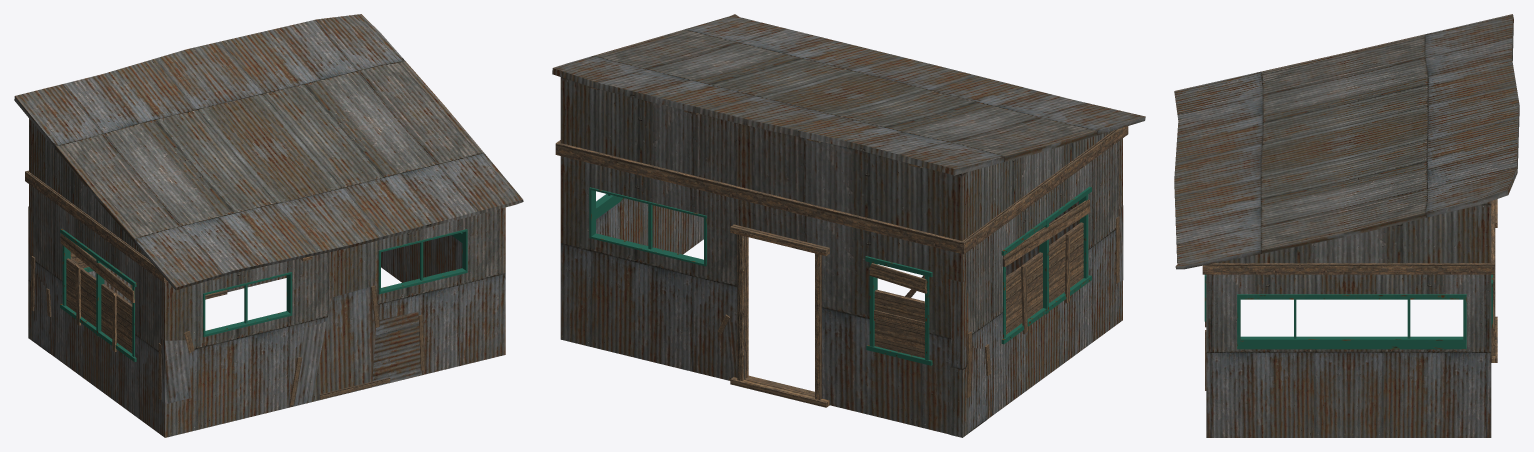
File: BuildingSmall02_2048.glb
The picture shows the model from 3 angles, left to right: view 1: azimuth 30°, elevation 25°; view 2: azimuth 150°, elevation 25°; view 3: azimuth 270°, elevation 25°; orthographic projection. The views are drawn at different scales.
Visible parts, largest first — view 1: xiutz_building_small_02; view 2: xiutz_building_small_02; view 3: xiutz_building_small_02.
Boxes of the visible parts, box(x1,y1,x2,y2) form: xiutz_building_small_02: box(14, 14, 523, 437); xiutz_building_small_02: box(552, 14, 1145, 437); xiutz_building_small_02: box(1174, 14, 1519, 437).
Bounding box in the file's own units: 8.6 × 5.56 × 6.98.
Materials: 1 (1 with a texture image).
